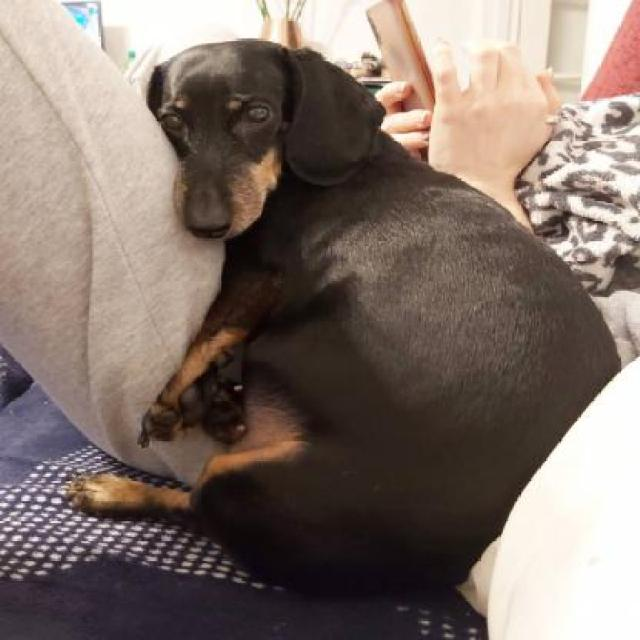Dog: (63, 34, 623, 595)
